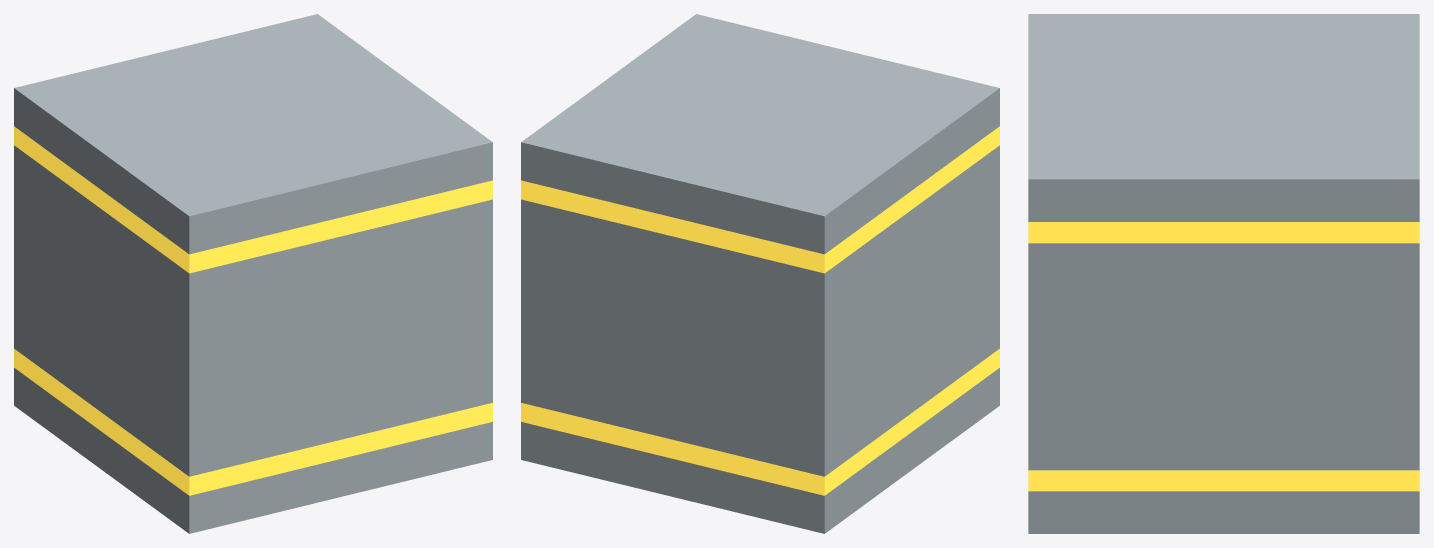
The picture shows the model from 3 angles, left to right: view 1: azimuth 30°, elevation 25°; view 2: azimuth 150°, elevation 25°; view 3: azimuth 270°, elevation 25°; orthographic projection. The views are drawn at different scales.
Parts seen in each view (by area): view 1: SM_Cube_v0; view 2: SM_Cube_v0; view 3: SM_Cube_v0.
Boxes of the visible parts, bbox=[...] form: SM_Cube_v0: bbox=[14, 14, 492, 533]; SM_Cube_v0: bbox=[521, 14, 999, 533]; SM_Cube_v0: bbox=[1028, 14, 1419, 533].
Size of the model in its own units: 1 by 1 by 1.
